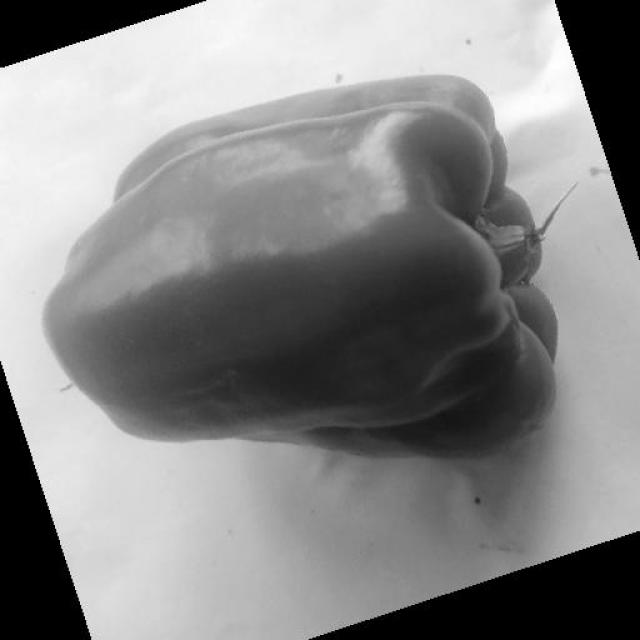Fresh_Capsicum: (114, 149, 536, 412)
